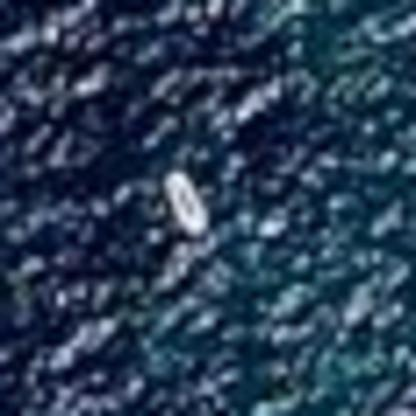ship: (150, 162, 218, 244)
